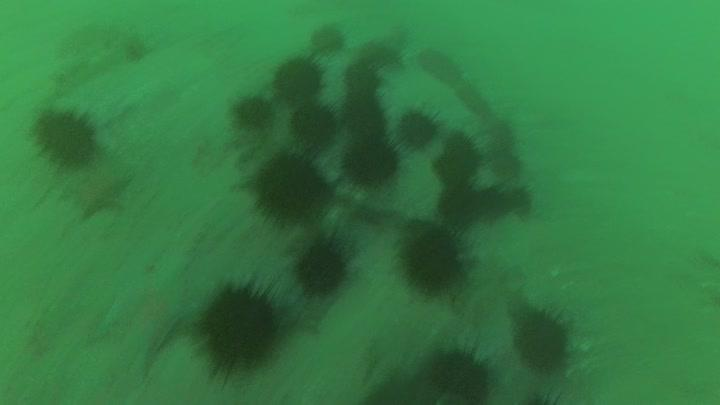urchin: (188, 273, 283, 374), (248, 149, 321, 226), (30, 102, 100, 173), (507, 305, 579, 372), (397, 226, 461, 298), (423, 340, 491, 403), (294, 234, 354, 294), (272, 49, 327, 107), (341, 134, 397, 187), (337, 90, 391, 140), (430, 130, 480, 181), (287, 99, 335, 149), (436, 181, 478, 225), (342, 60, 384, 102), (230, 93, 274, 131), (397, 105, 433, 149), (307, 18, 346, 57), (476, 183, 509, 219)
